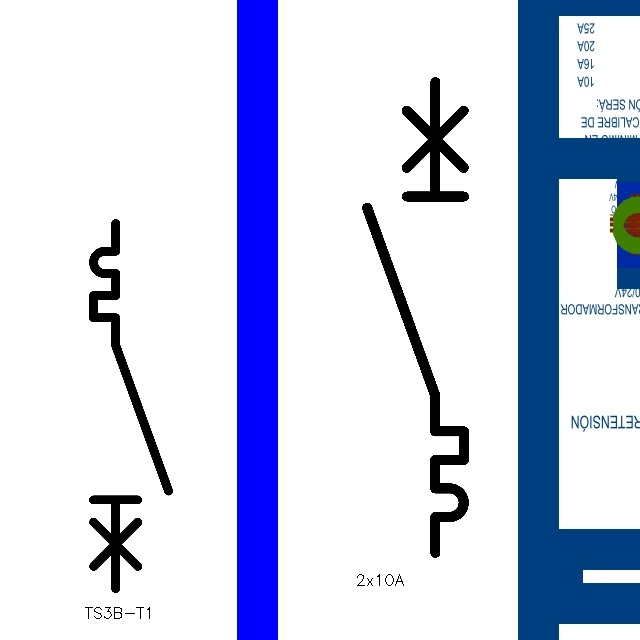interruptor_termomagnetico: (355, 70, 476, 565), (84, 214, 178, 598)
